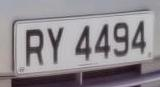4: (72, 21, 95, 64), (131, 15, 151, 63), (93, 20, 113, 64)
9: (112, 19, 131, 62)
R: (22, 24, 48, 73)
Y: (43, 23, 68, 69)
